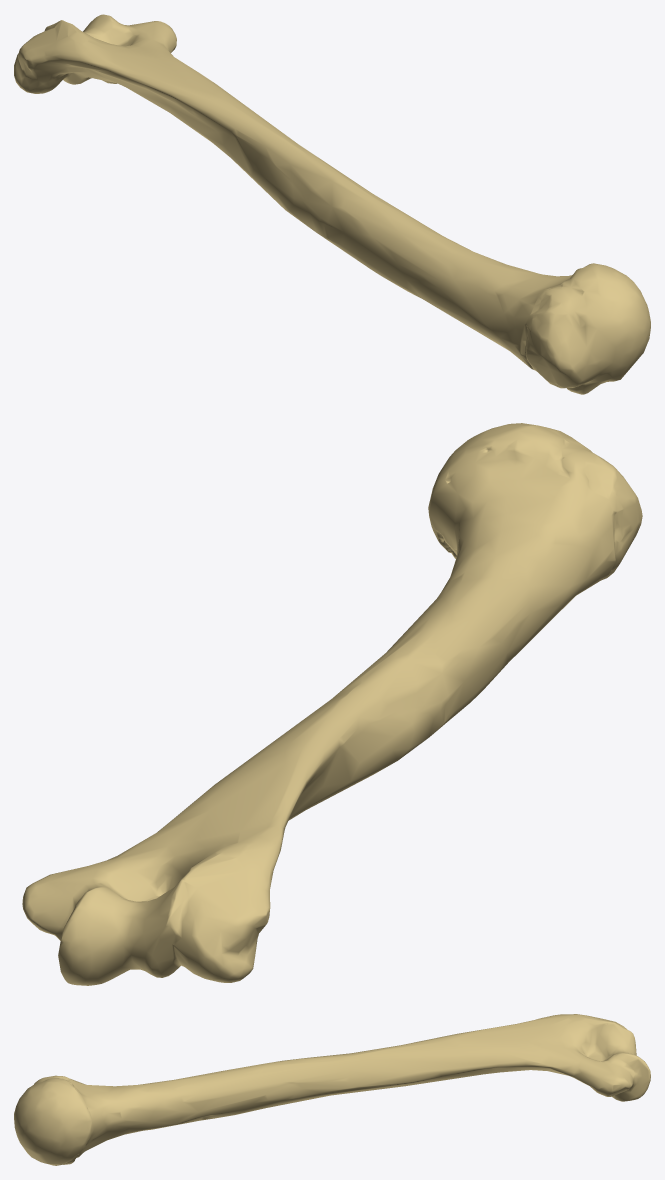
3 views of the same model, one above another, from view 1: azimuth 30°, elevation 25°; view 2: azimuth 150°, elevation 25°; view 3: azimuth 270°, elevation 25° (orthographic). The views are drawn at different scales.
Parts seen in each view (by area): view 1: 右侧肱骨; view 2: 右侧肱骨; view 3: 右侧肱骨.
Part boxes in pixels (<box>): 右侧肱骨: <box>14,14,650,394</box>; 右侧肱骨: <box>22,423,642,985</box>; 右侧肱骨: <box>14,1014,650,1165</box>.
Size of the model in its own units: 0.1536 by 0.0772 by 0.4679.
